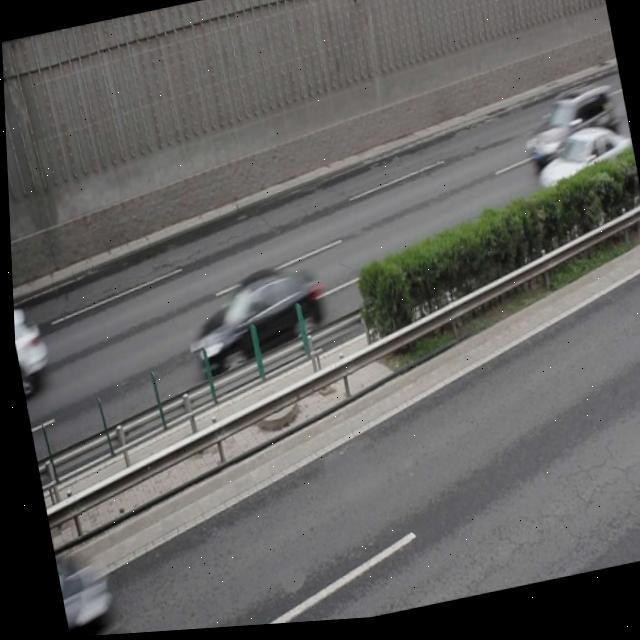car: (177, 258, 328, 380), (514, 86, 622, 180), (530, 126, 637, 219), (49, 545, 116, 638), (10, 296, 52, 397)
truck: (627, 205, 640, 302)
